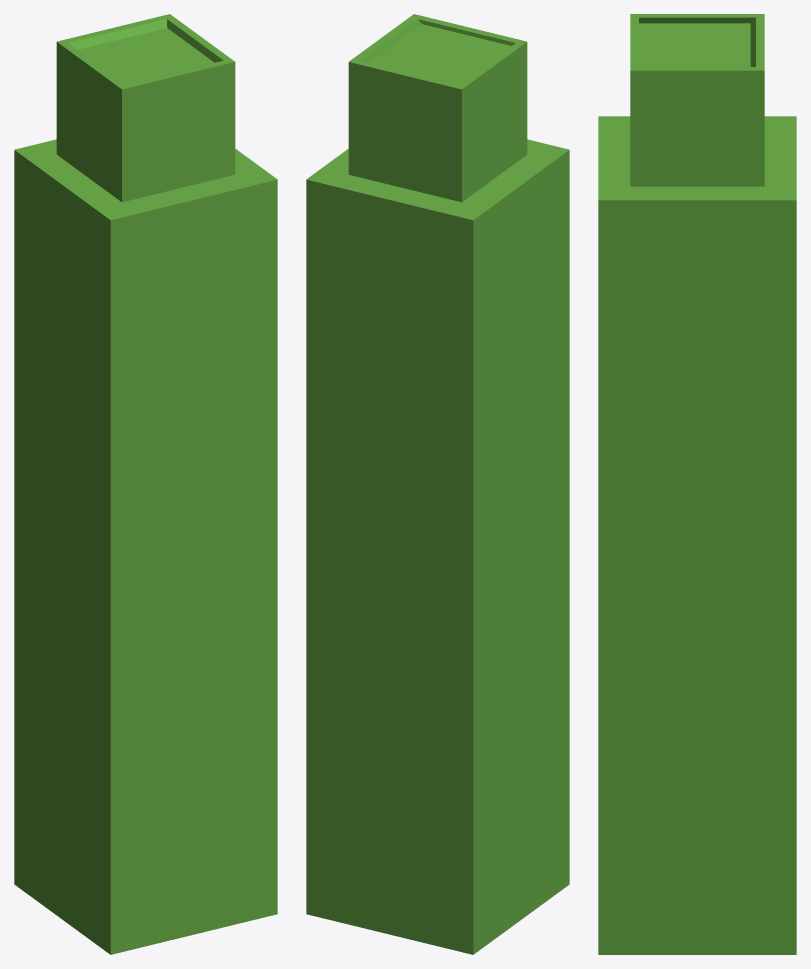
Rendered from Building1_green.fbx.
The picture shows the model from 3 angles, left to right: view 1: azimuth 30°, elevation 25°; view 2: azimuth 150°, elevation 25°; view 3: azimuth 270°, elevation 25°; orthographic projection. The views are drawn at different scales.
Parts seen in each view (by area): view 1: Building 1; view 2: Building 1; view 3: Building 1.
Part boxes in pixels (left/top/right/bottom): Building 1: left=14, top=14, right=277, bottom=954; Building 1: left=306, top=14, right=569, bottom=954; Building 1: left=598, top=14, right=796, bottom=954.
Bounding box in the file's own units: 1001 × 4853 × 1001.
Materials: 1 (1 with a texture image).
